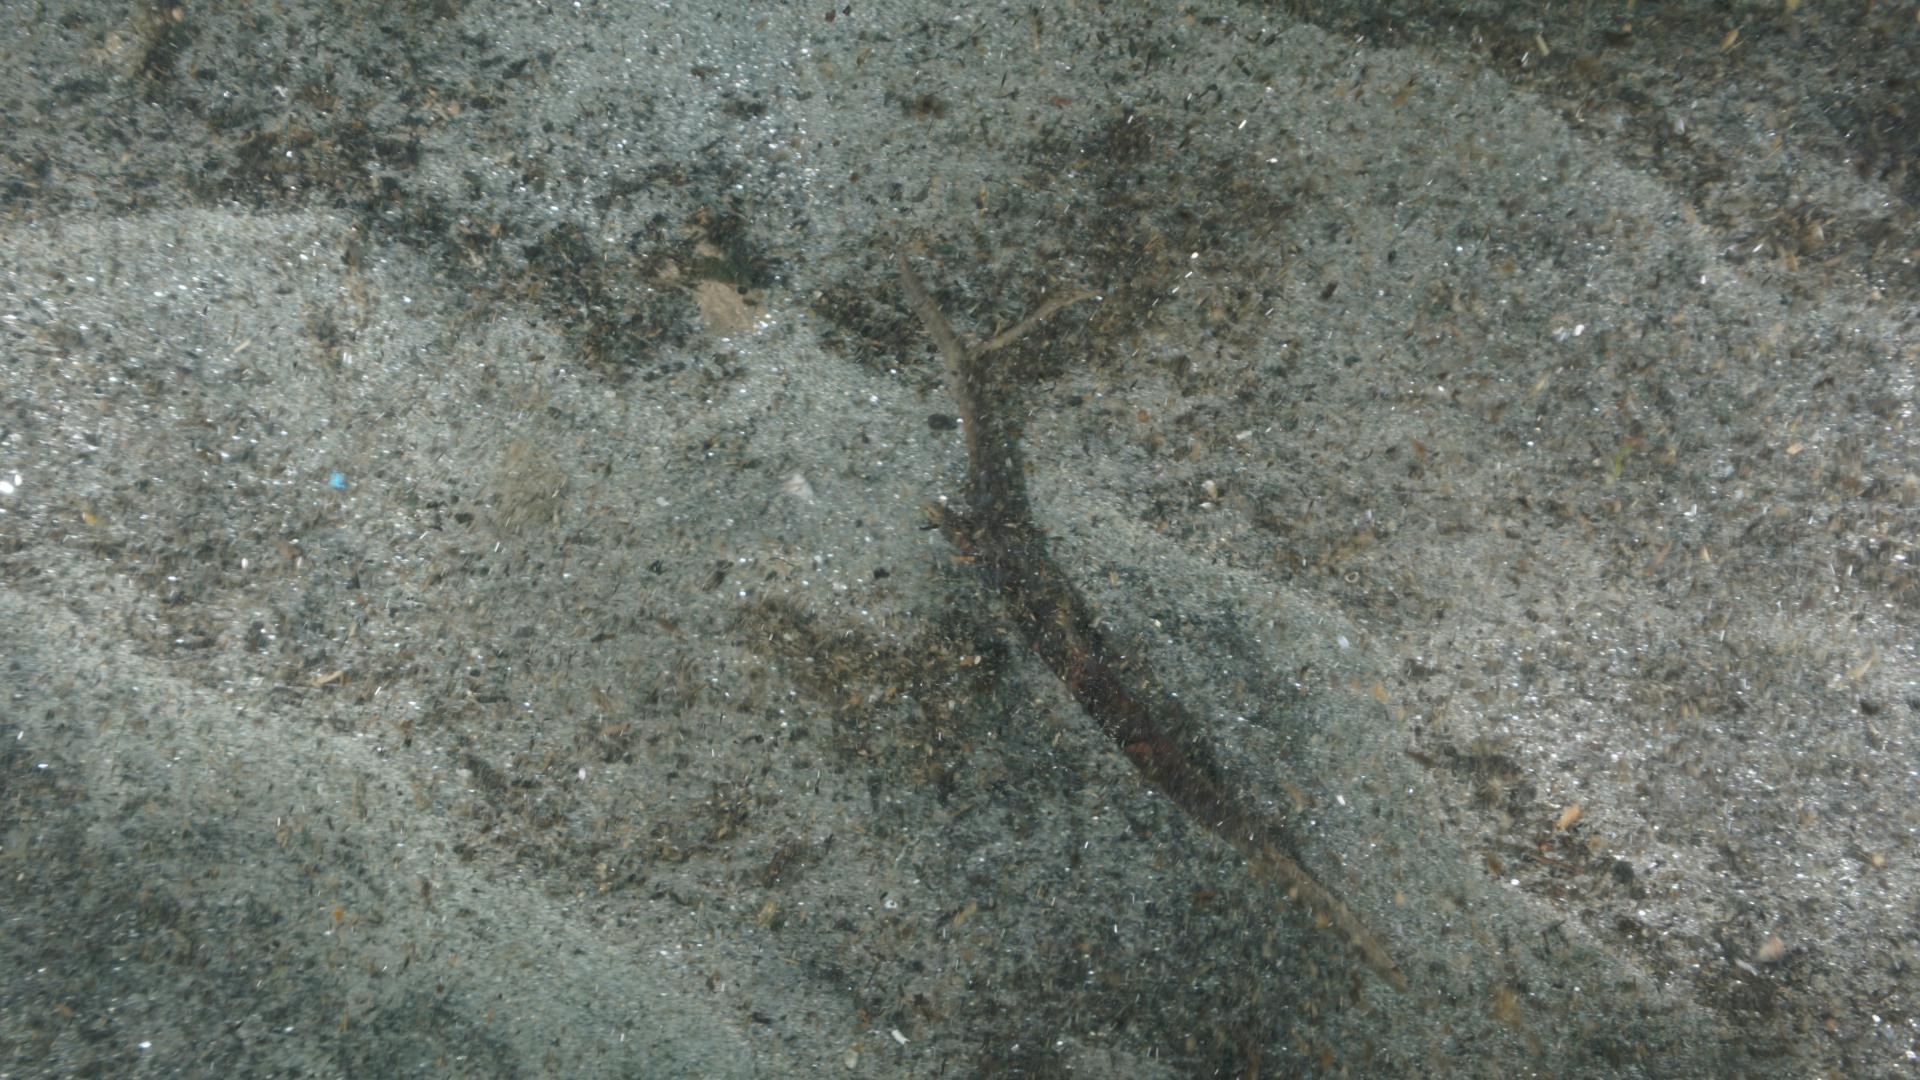wood: (931, 369, 1374, 934)
